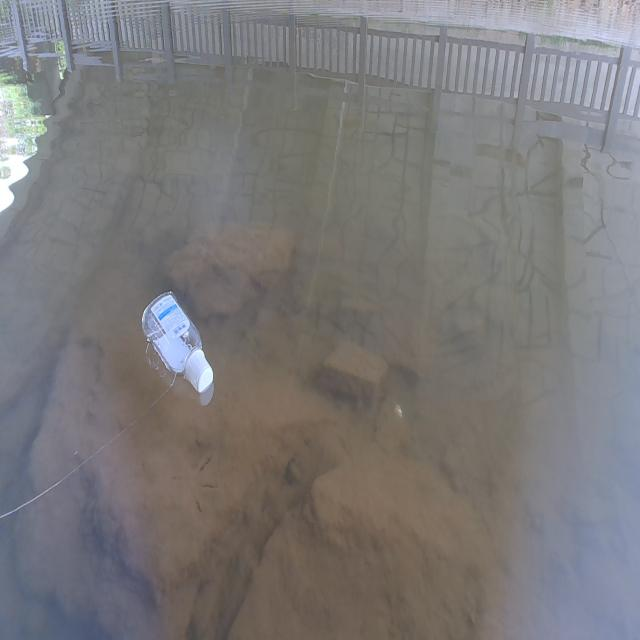Bottle: (141, 290, 214, 393)
